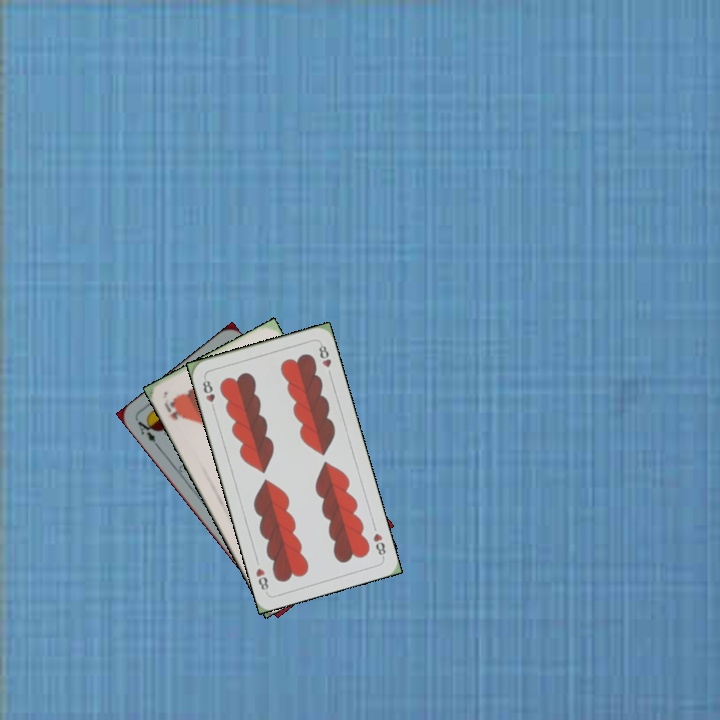EA: (133, 414, 162, 451)
H8: (198, 374, 218, 413), (369, 529, 388, 561)
HO: (160, 395, 181, 422)
